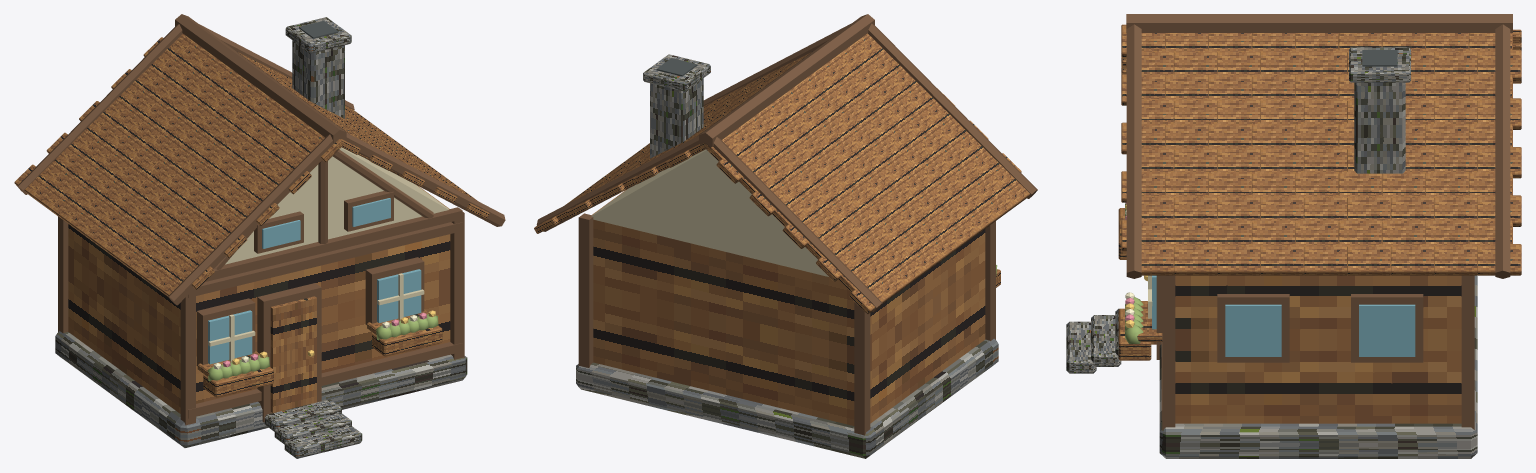
The model's file is cottage.glb.
3 renders of one model, left to right at view 1: azimuth 30°, elevation 25°; view 2: azimuth 150°, elevation 25°; view 3: azimuth 270°, elevation 25°, orthographic. The views are drawn at different scales.
Parts seen in each view (by area): view 1: cottage_roof, cottage_beam, cottage_timber, cottage_stone, cottage_plaster, cottage_glass, cottage_leaf_1; view 2: cottage_timber, cottage_roof, cottage_stone, cottage_beam, cottage_plaster; view 3: cottage_roof, cottage_timber, cottage_beam, cottage_stone, cottage_glass, cottage_iron, cottage_leaf_1.
Part boxes in pixels (x1,y1,x2,y2): cottage_roof: [14, 34, 489, 296]; cottage_beam: [17, 14, 505, 425]; cottage_timber: [68, 185, 450, 413]; cottage_stone: [55, 17, 467, 458]; cottage_plaster: [208, 147, 448, 361]; cottage_glass: [208, 198, 421, 364]; cottage_leaf_1: [207, 314, 438, 381]; cottage_timber: [592, 189, 1000, 425]; cottage_roof: [534, 33, 1029, 314]; cottage_stone: [576, 54, 998, 458]; cottage_beam: [536, 14, 1037, 435]; cottage_plaster: [591, 149, 828, 276]; cottage_roof: [1121, 24, 1521, 275]; cottage_timber: [1118, 208, 1461, 423]; cottage_beam: [1126, 14, 1512, 429]; cottage_stone: [1066, 47, 1477, 458]; cottage_glass: [1152, 275, 1415, 356]; cottage_iron: [1362, 50, 1397, 66]; cottage_leaf_1: [1125, 203, 1143, 343].
Bounding box in the file's own units: 6.54 × 5.61 × 6.3.
Materials: 11 (3 with a texture image).
